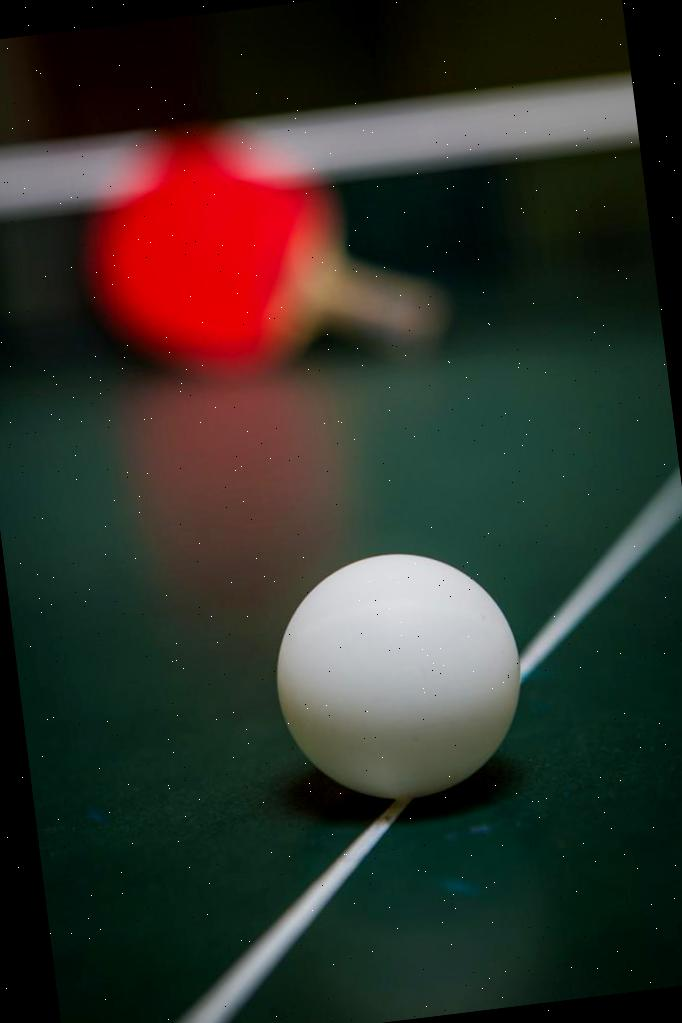ball: (256, 532, 538, 814)
